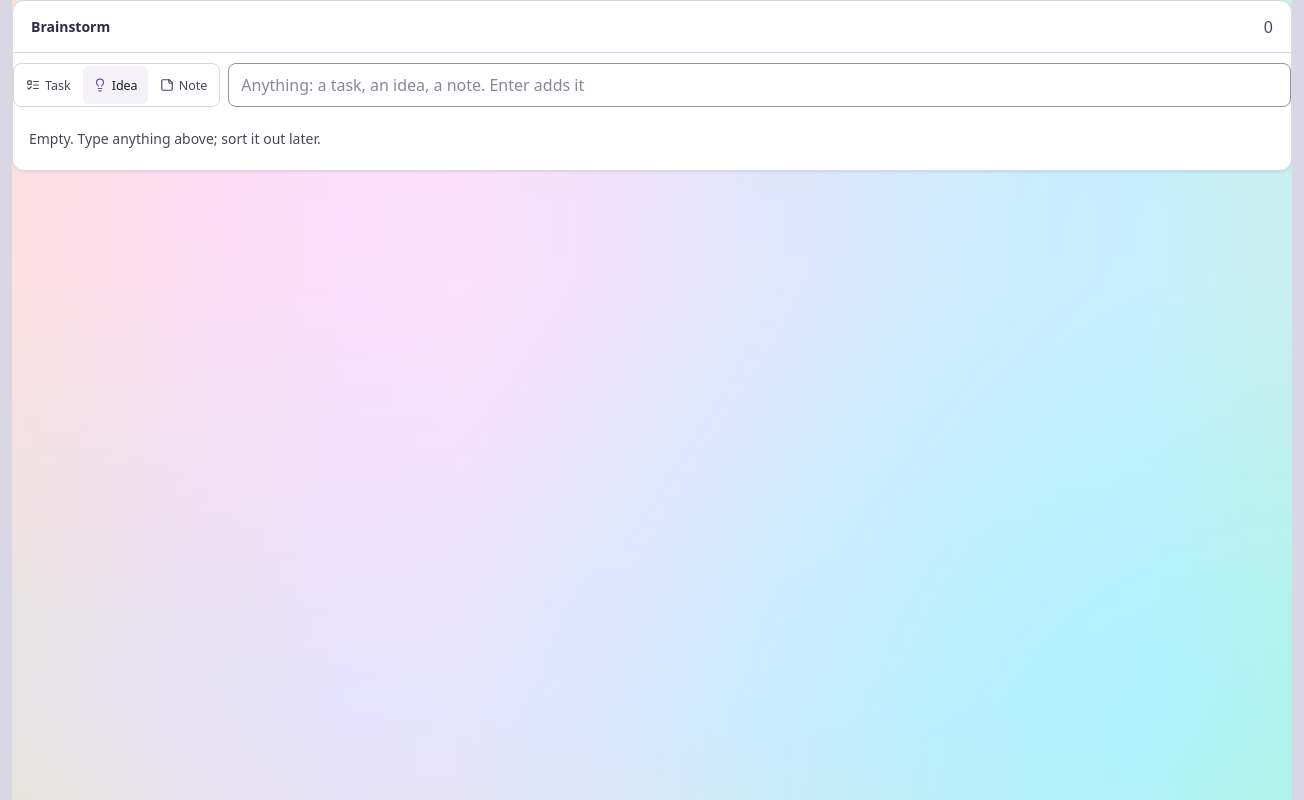
Test: the brainstorm list › adds lines of any kind, newest first, ticks tasks, and changes a kind by clicking it
Type "Unit 3 question sources" into the field named "New brainstorm line" at (760,85), box [228,63,1291,107]
Then press Enter
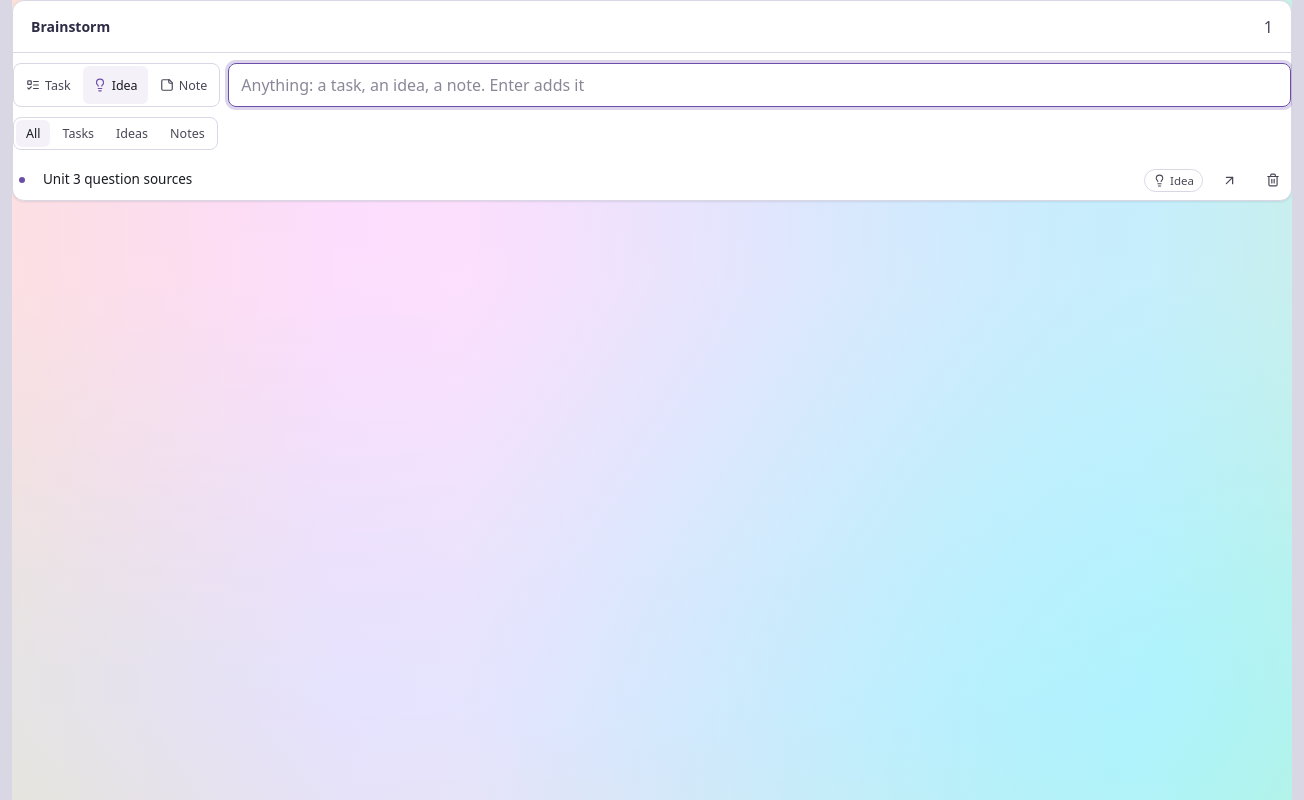
Click the button "Task" at (48,85), box [16,66,81,104]
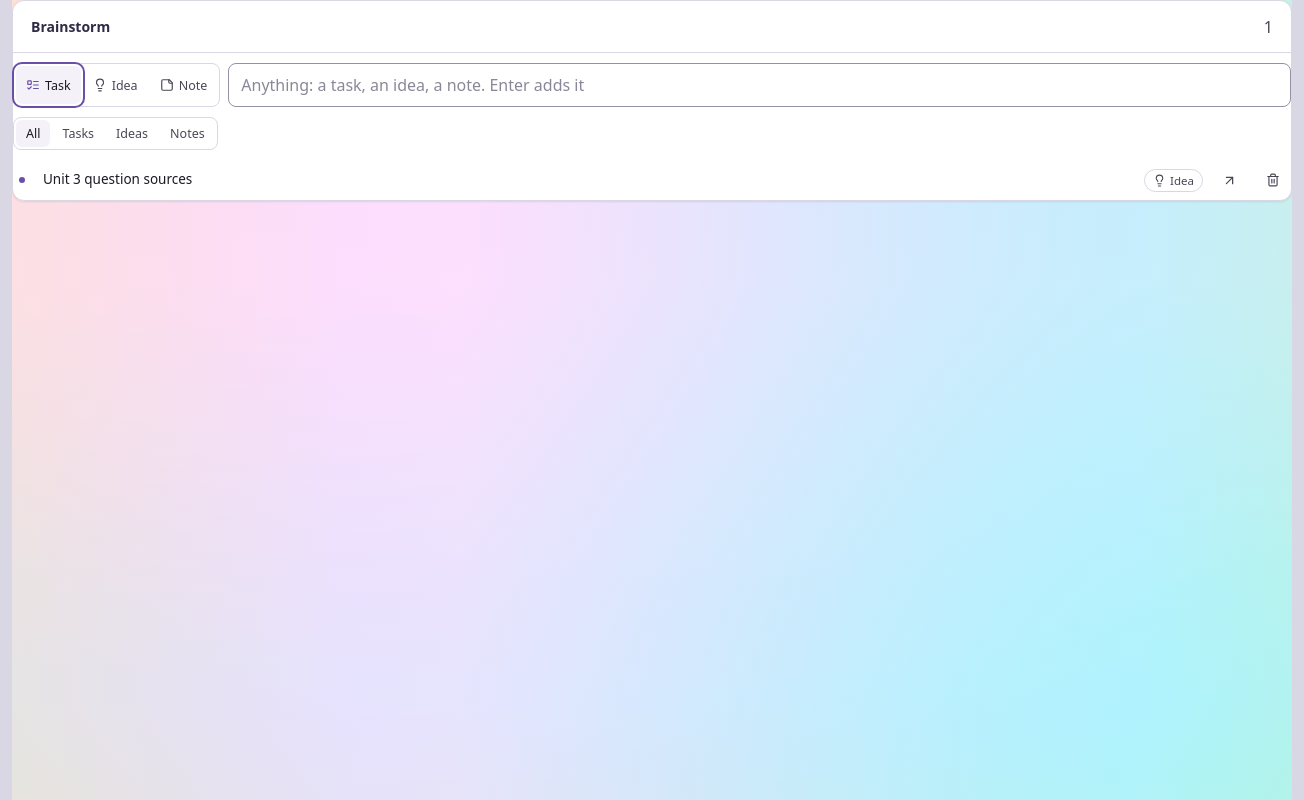
Type "Email the TA" into the field named "New brainstorm line" at (760,85), box [228,63,1291,107]
Then press Enter
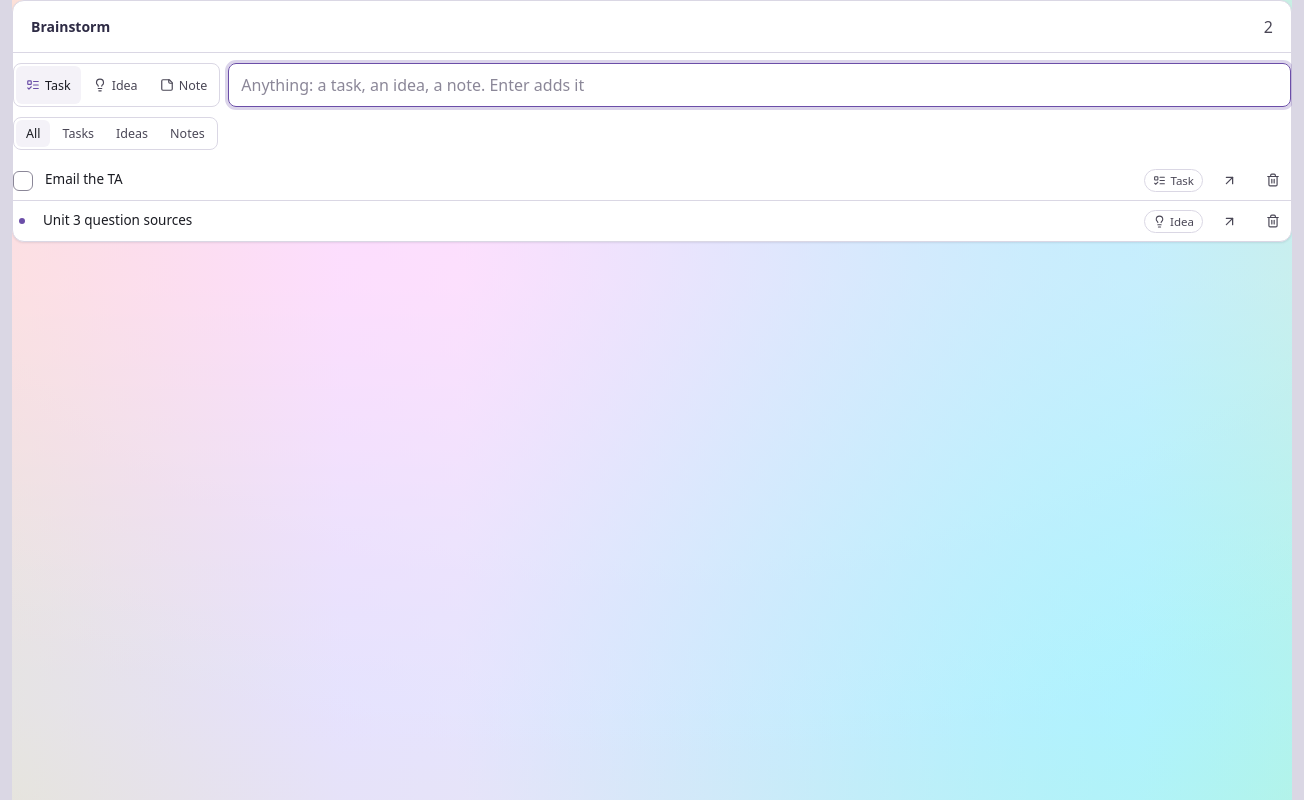
Click the checkbox named "Email the TA" at (23,180), box [13,170,33,190]
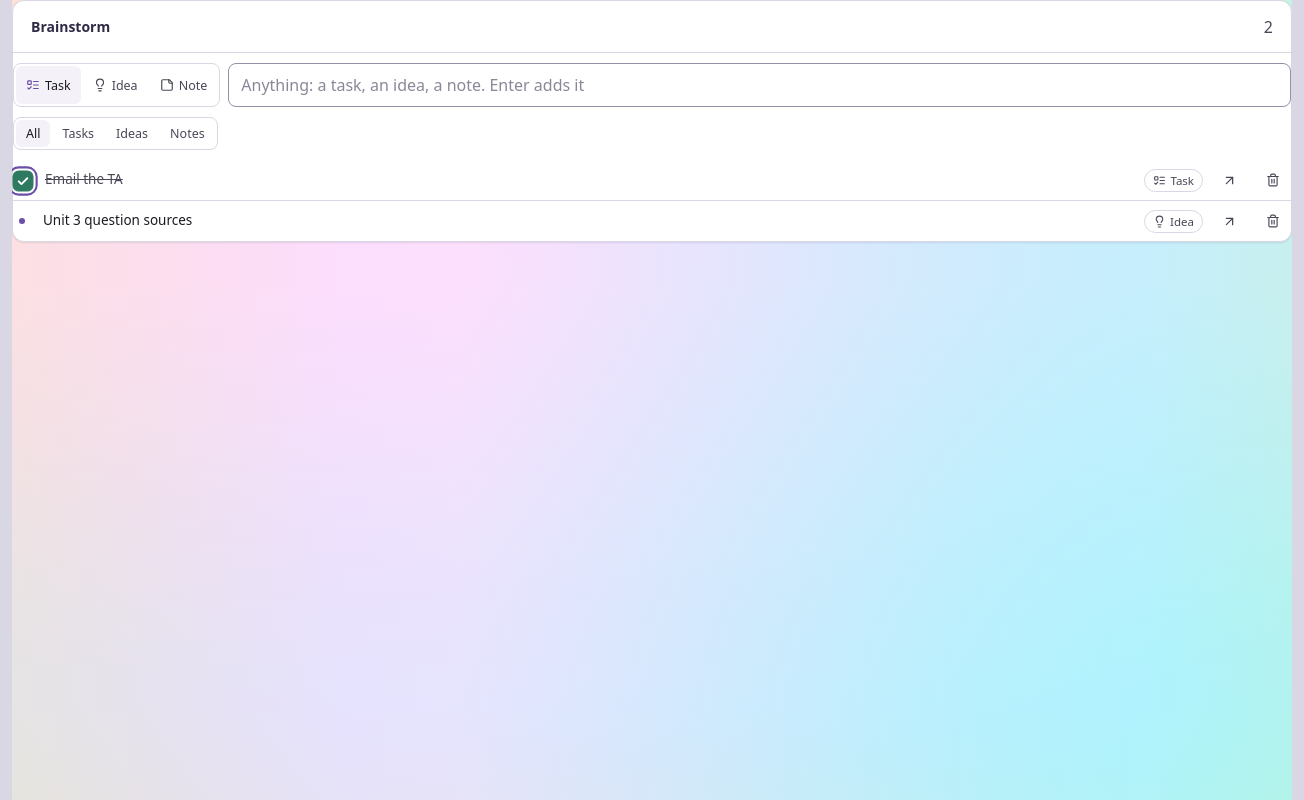
Click the button named "Idea, change kind" at (1174,221), box [1144,210,1203,232]
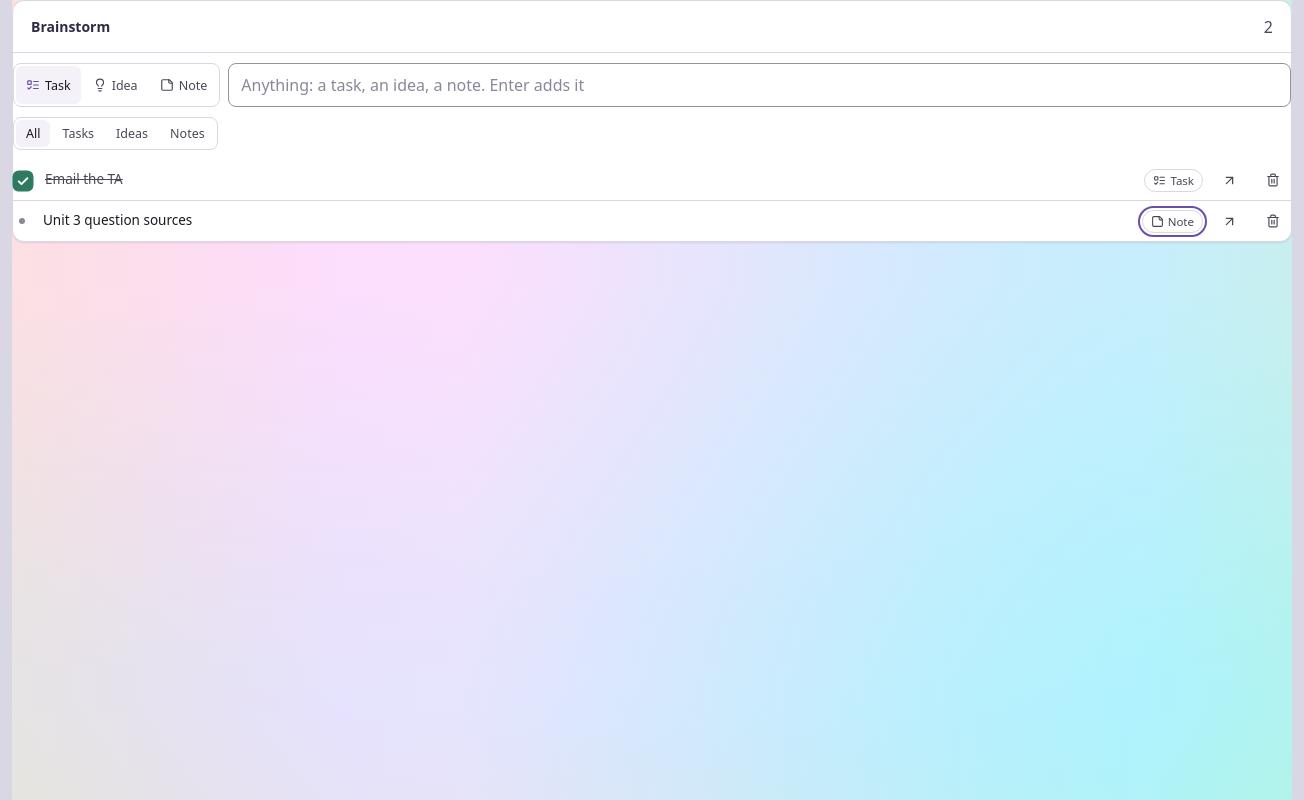
# The filter shows one kind at a time.
Click the button "Tasks" at (78,134), box [52,120,104,147]
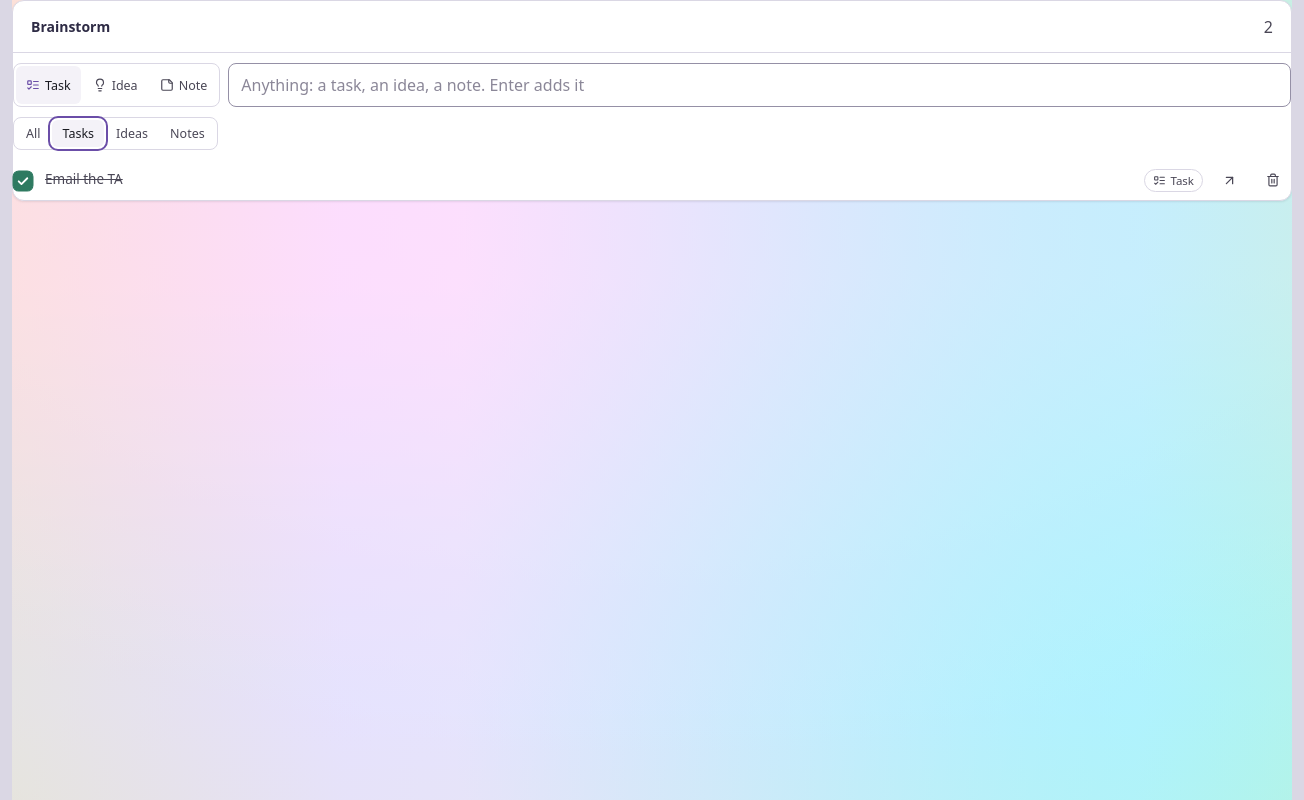
Result: the number of list items is 1 at [13,160,1291,200]
